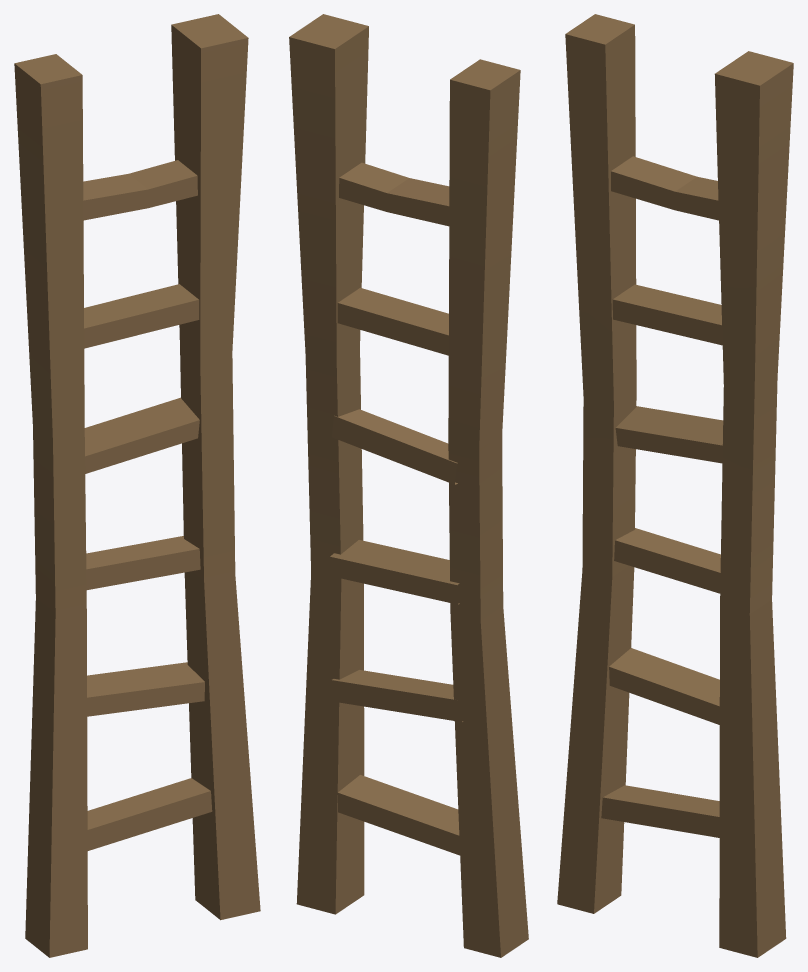
Rendered from house_ladder.fbx.
3 renders of one model, left to right at view 1: azimuth 30°, elevation 25°; view 2: azimuth 150°, elevation 25°; view 3: azimuth 330°, elevation 25°, orthographic.
Visible parts, largest first — view 1: ladder_low1; view 2: ladder_low1; view 3: ladder_low1.
Boxes of the visible parts, x1,y1,x2,y2 form: ladder_low1: (14,14,260,957); ladder_low1: (289,14,528,957); ladder_low1: (557,14,793,957).
Bounding box in the file's own units: 59.09 × 236 × 20.41.
